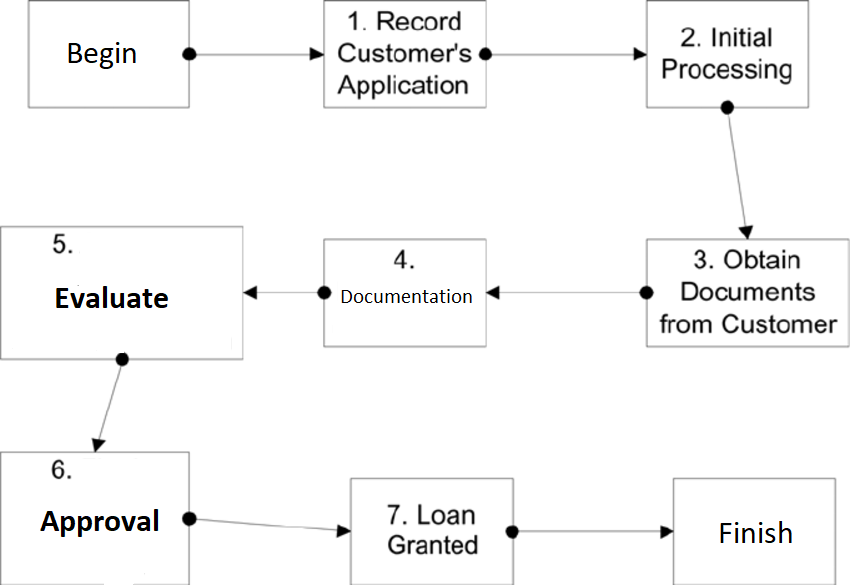arrow: (716, 97, 756, 241), (180, 511, 353, 541), (89, 351, 133, 455), (477, 43, 649, 64), (484, 281, 654, 302), (180, 44, 328, 64), (503, 523, 675, 538), (241, 282, 333, 303)
process: (1, 224, 247, 364), (1, 449, 193, 585), (643, 235, 850, 351), (319, 235, 491, 350), (669, 474, 842, 585), (346, 474, 517, 585), (642, 1, 814, 111), (23, 1, 193, 111), (321, 2, 491, 111)
text: (657, 247, 840, 336), (336, 7, 475, 102), (39, 456, 165, 539), (50, 229, 175, 312), (660, 24, 795, 85), (339, 248, 475, 308), (385, 499, 481, 557), (65, 38, 140, 71), (718, 518, 798, 546)
